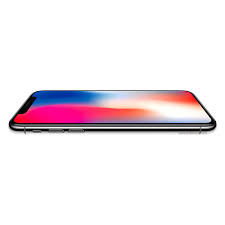iphone: (5, 85, 217, 132)
iphone10: (5, 86, 217, 133)
